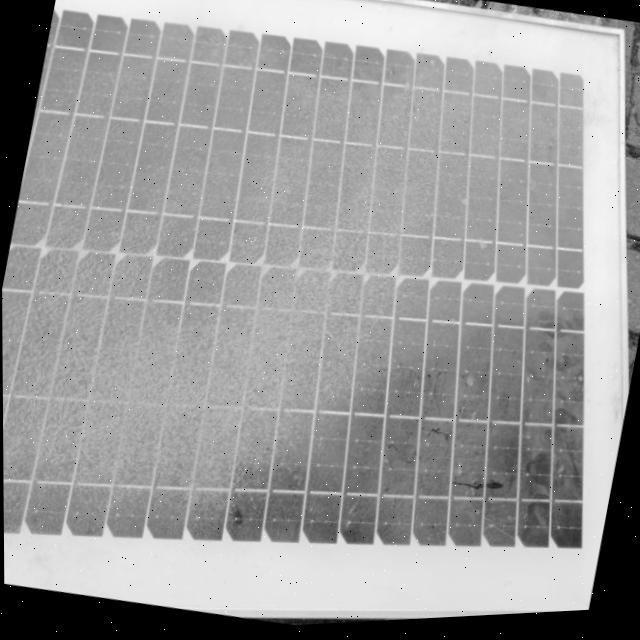Surface Contaminant: (2, 0, 615, 578)
